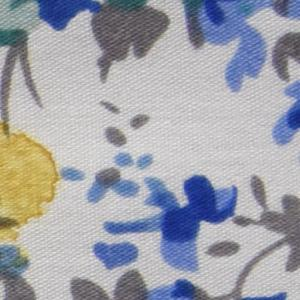Oil Stain: (1, 120, 65, 274)
